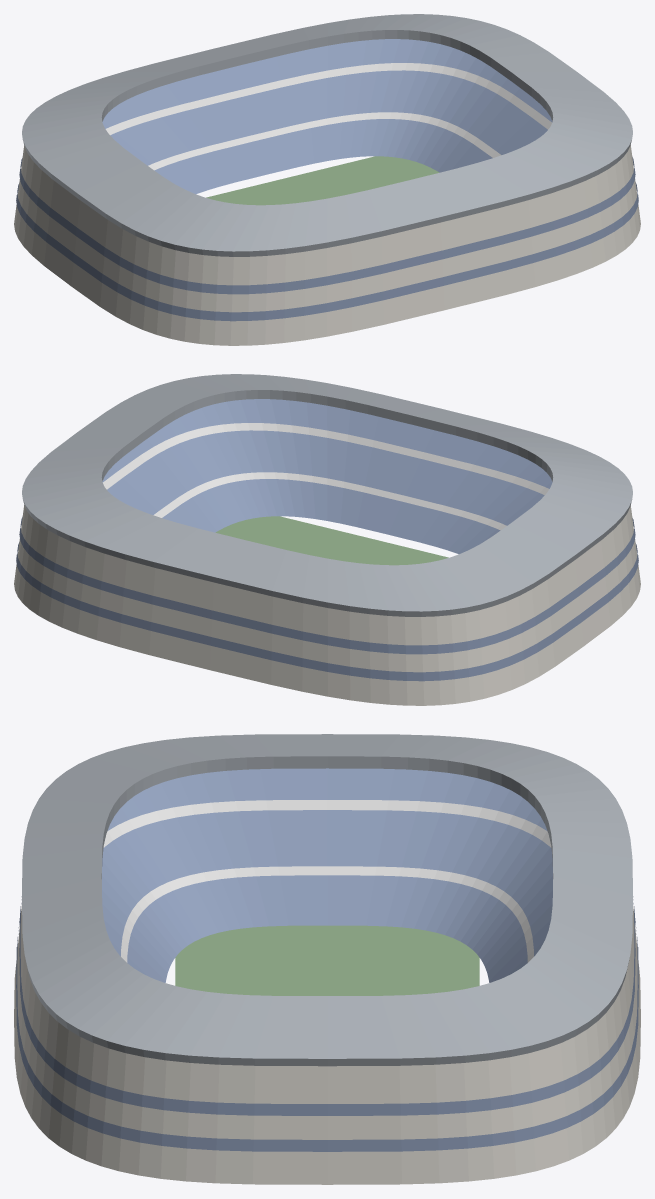
The model's file is balaidos.glb.
3 views of the same model, one above another, from view 1: azimuth 30°, elevation 25°; view 2: azimuth 150°, elevation 25°; view 3: azimuth 270°, elevation 25° (orthographic). The views are drawn at different scales.
Bounding box in the file's own units: 176 × 35 × 140.
